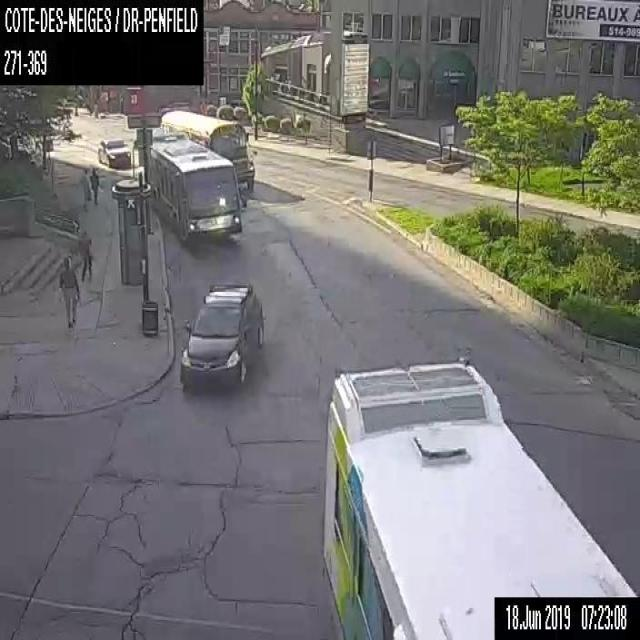bus: (318, 358, 636, 638), (144, 130, 240, 242), (157, 109, 255, 205)
pedestrian: (57, 254, 79, 326), (80, 229, 95, 280), (79, 167, 91, 208), (89, 167, 98, 204)
vehicle: (176, 280, 266, 395), (96, 135, 130, 168)
